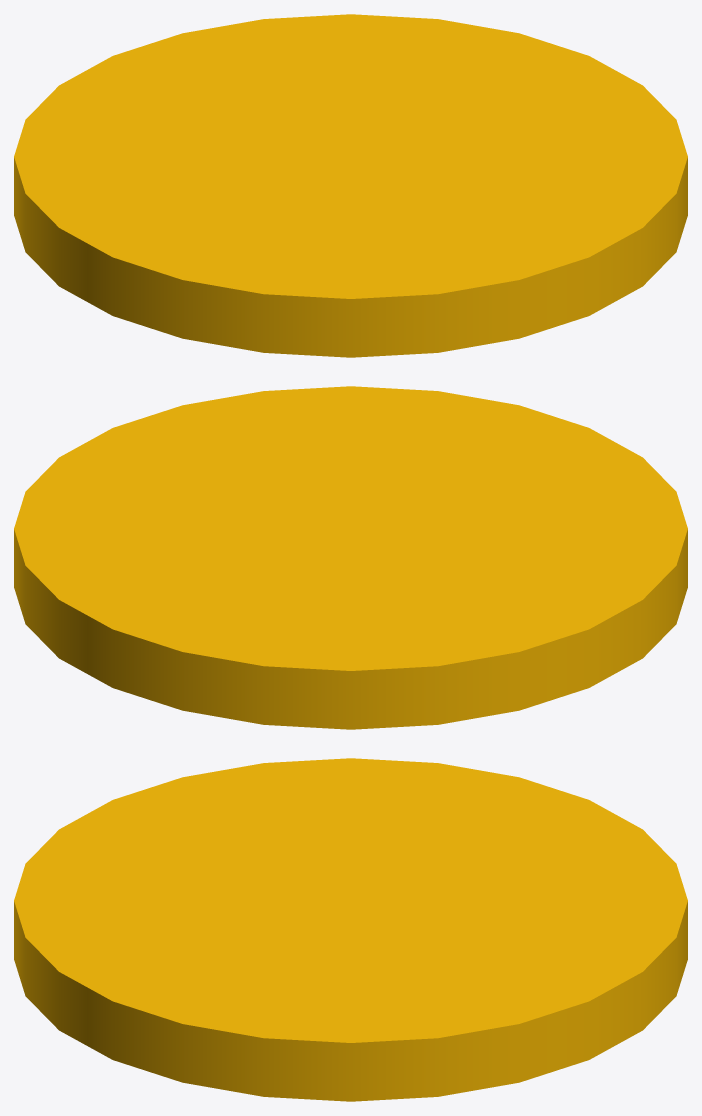
File: original-372.obj
3 renders of one model, top to bottom at view 1: azimuth 30°, elevation 25°; view 2: azimuth 150°, elevation 25°; view 3: azimuth 270°, elevation 25°, orthographic.
Visible parts, largest first — view 1: mesh12/mesh12-geometry#mesh12-geometry; view 2: mesh12/mesh12-geometry#mesh12-geometry; view 3: mesh12/mesh12-geometry#mesh12-geometry.
Boxes of the visible parts, x1,y1,x2,y2 form: mesh12/mesh12-geometry#mesh12-geometry: (14, 14, 687, 357); mesh12/mesh12-geometry#mesh12-geometry: (14, 386, 687, 729); mesh12/mesh12-geometry#mesh12-geometry: (14, 758, 687, 1101).
Size of the model in its own units: 0.0742 by 0.00712 by 0.0742.
